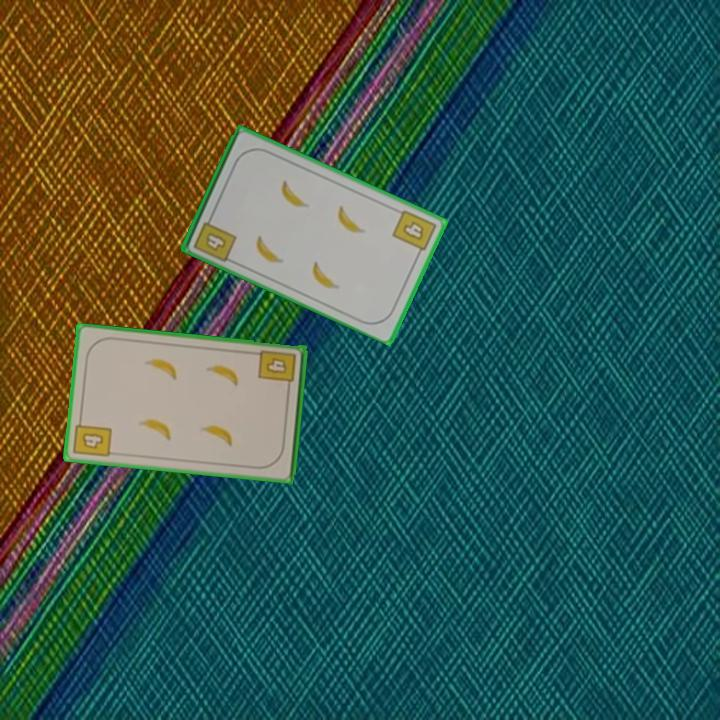4b: (389, 206, 439, 259), (190, 211, 239, 265), (70, 414, 114, 460), (255, 347, 299, 393)
